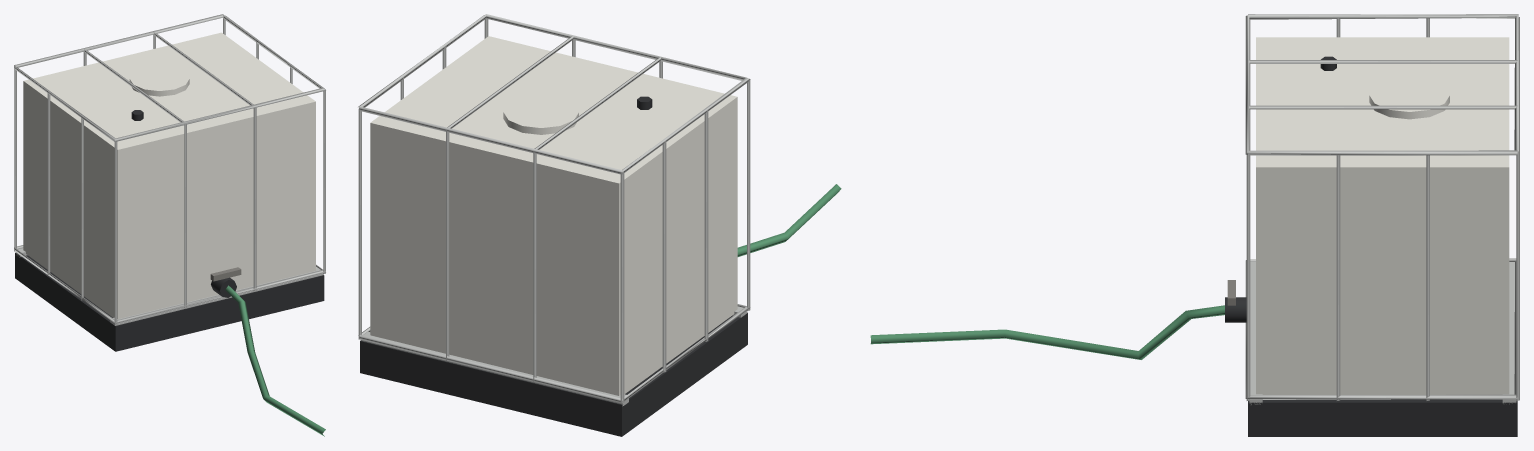
Rendered from ibc_tote_LOD1.glb.
3 renders of one model, left to right at view 1: azimuth 30°, elevation 25°; view 2: azimuth 150°, elevation 25°; view 3: azimuth 270°, elevation 25°, orthographic. The views are drawn at different scales.
Parts seen in each view (by area): view 1: HY_ibc_tote_LOD1; view 2: HY_ibc_tote_LOD1; view 3: HY_ibc_tote_LOD1.
Part boxes in pixels (left/top/right/bottom): HY_ibc_tote_LOD1: left=14, top=14, right=325, bottom=436; HY_ibc_tote_LOD1: left=358, top=14, right=841, bottom=436; HY_ibc_tote_LOD1: left=870, top=14, right=1519, bottom=436.
Size of the model in its own units: 1.22 by 1.17 by 2.41.
